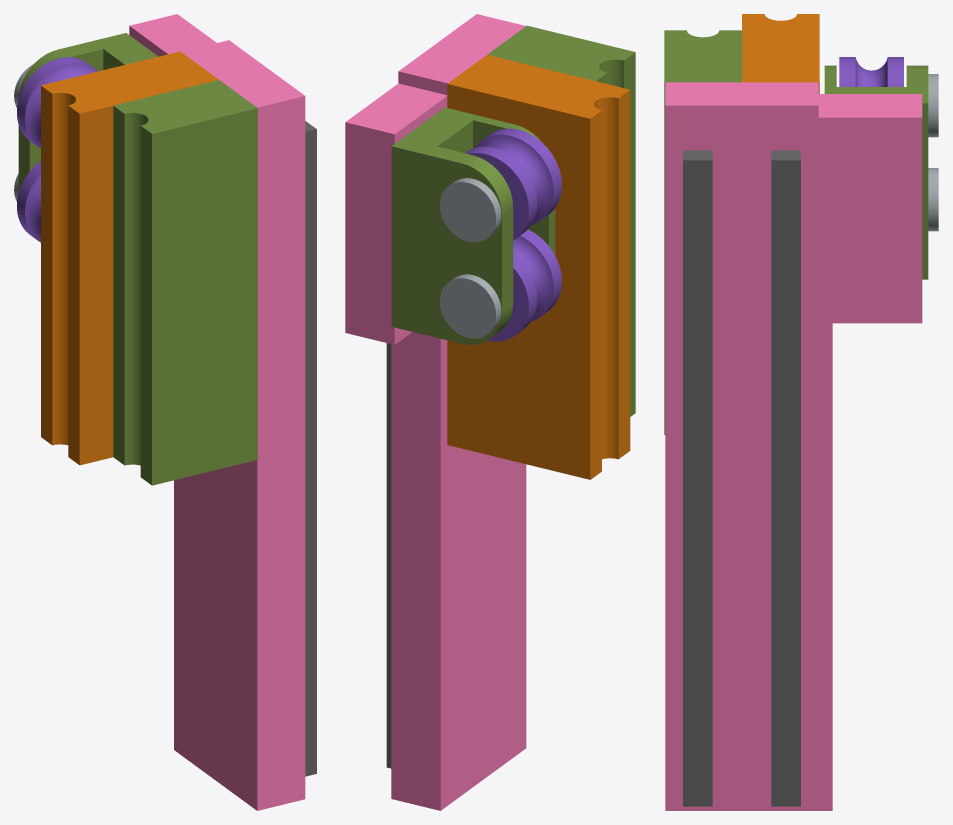
File: dayamam_kizak2.glb
3 renders of one model, left to right at view 1: azimuth 30°, elevation 25°; view 2: azimuth 150°, elevation 25°; view 3: azimuth 270°, elevation 25°, orthographic. The views are drawn at different scales.
Visible parts, largest first — view 1: 03 - 02 - KIZAK TA\X2\015E\X0\IYICI, 25x300x94 KIZAK, 25x300x124 KIZAK, THK 25 -R- RAY, 03 - 22 - ROL\X2\0130\X0\NG - MAKARA-PLAKA-R1, 08 - 03 - AVARE MAKARA - 02 - ROL\X2\0130\X0\NG-\X\C7AP 25, 08 - 03 - AVARE MAKARA - 02 - ROL\X2\0130\X0\NG-\X\C7AP 026; view 2: 03 - 02 - KIZAK TA\X2\015E\X0\IYICI, 25x300x124 KIZAK, 03 - 22 - ROL\X2\0130\X0\NG - MAKARA-PLAKA-R1, 25x300x94 KIZAK, 08 - 03 - AVARE MAKARA - 02 - ROL\X2\0130\X0\NG-\X\C7AP 25, 08 - 03 - AVARE MAKARA - 02 - ROL\X2\0130\X0\NG-\X\C7AP 026, 02 - 15 - ROL\X2\0130\X0\NG P\X2\0130\X0\M\X2\0130\X0\, 02 - 15 - ROL\X2\0130\X0\NG P\X2\0130\X0\M\X2\0130\X0\001, THK 25 -R- RAY001; view 3: 03 - 02 - KIZAK TA\X2\015E\X0\IYICI, THK 25 -R- RAY, THK 25 -R- RAY001, 25x300x124 KIZAK, 25x300x94 KIZAK, 03 - 22 - ROL\X2\0130\X0\NG - MAKARA-PLAKA-R1, 08 - 03 - AVARE MAKARA - 02 - ROL\X2\0130\X0\NG-\X\C7AP 25, 02 - 15 - ROL\X2\0130\X0\NG P\X2\0130\X0\M\X2\0130\X0\, 02 - 15 - ROL\X2\0130\X0\NG P\X2\0130\X0\M\X2\0130\X0\001.
Part boxes in pixels (left/top/right/bottom): 03 - 02 - KIZAK TA\X2\015E\X0\IYICI: left=129, top=14, right=305, bottom=810; 25x300x94 KIZAK: left=113, top=80, right=257, bottom=485; 25x300x124 KIZAK: left=41, top=51, right=218, bottom=465; THK 25 -R- RAY: left=305, top=121, right=316, bottom=776; 03 - 22 - ROL\X2\0130\X0\NG - MAKARA-PLAKA-R1: left=18, top=33, right=158, bottom=192; 08 - 03 - AVARE MAKARA - 02 - ROL\X2\0130\X0\NG-\X\C7AP 25: left=17, top=57, right=97, bottom=148; 08 - 03 - AVARE MAKARA - 02 - ROL\X2\0130\X0\NG-\X\C7AP 026: left=17, top=161, right=40, bottom=242; 03 - 02 - KIZAK TA\X2\015E\X0\IYICI: left=345, top=14, right=526, bottom=810; 25x300x124 KIZAK: left=447, top=55, right=630, bottom=479; 03 - 22 - ROL\X2\0130\X0\NG - MAKARA-PLAKA-R1: left=391, top=107, right=555, bottom=344; 25x300x94 KIZAK: left=487, top=25, right=635, bottom=416; 08 - 03 - AVARE MAKARA - 02 - ROL\X2\0130\X0\NG-\X\C7AP 25: left=465, top=128, right=561, bottom=240; 08 - 03 - AVARE MAKARA - 02 - ROL\X2\0130\X0\NG-\X\C7AP 026: left=487, top=229, right=561, bottom=341; 02 - 15 - ROL\X2\0130\X0\NG P\X2\0130\X0\M\X2\0130\X0\: left=440, top=274, right=501, bottom=338; 02 - 15 - ROL\X2\0130\X0\NG P\X2\0130\X0\M\X2\0130\X0\001: left=440, top=178, right=501, bottom=242; THK 25 -R- RAY001: left=386, top=343, right=391, bottom=768; 03 - 02 - KIZAK TA\X2\015E\X0\IYICI: left=665, top=82, right=922, bottom=810; THK 25 -R- RAY: left=683, top=150, right=712, bottom=806; THK 25 -R- RAY001: left=771, top=150, right=800, bottom=806; 25x300x124 KIZAK: left=742, top=14, right=819, bottom=93; 25x300x94 KIZAK: left=664, top=30, right=741, bottom=434; 03 - 22 - ROL\X2\0130\X0\NG - MAKARA-PLAKA-R1: left=824, top=65, right=928, bottom=279; 08 - 03 - AVARE MAKARA - 02 - ROL\X2\0130\X0\NG-\X\C7AP 25: left=839, top=57, right=903, bottom=86; 02 - 15 - ROL\X2\0130\X0\NG P\X2\0130\X0\M\X2\0130\X0\: left=928, top=168, right=938, bottom=231; 02 - 15 - ROL\X2\0130\X0\NG P\X2\0130\X0\M\X2\0130\X0\001: left=928, top=74, right=938, bottom=137.
Bounding box in the file's own units: 0.1855 × 0.6 × 0.2118.
